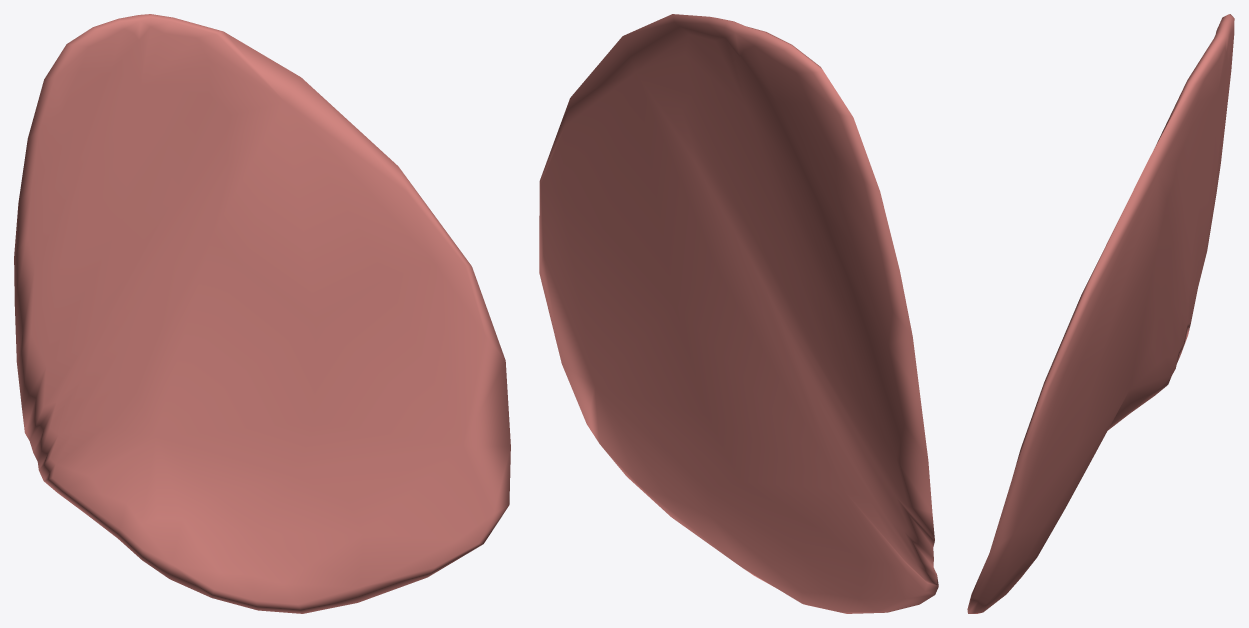
The picture shows the model from 3 angles, left to right: view 1: azimuth 30°, elevation 25°; view 2: azimuth 150°, elevation 25°; view 3: azimuth 270°, elevation 25°; orthographic projection. The views are drawn at different scales.
Parts seen in each view (by area): view 1: ZA_74fd3c0bdc9a6465; view 2: ZA_74fd3c0bdc9a6465; view 3: ZA_74fd3c0bdc9a6465.
Boxes of the visible parts, x1=… form: ZA_74fd3c0bdc9a6465: x1=14, y1=14, x2=510, y2=613; ZA_74fd3c0bdc9a6465: x1=539, y1=14, x2=938, y2=613; ZA_74fd3c0bdc9a6465: x1=967, y1=14, x2=1234, y2=613.
Size of the model in its own units: 0.0148 by 0.0193 by 0.00888.
